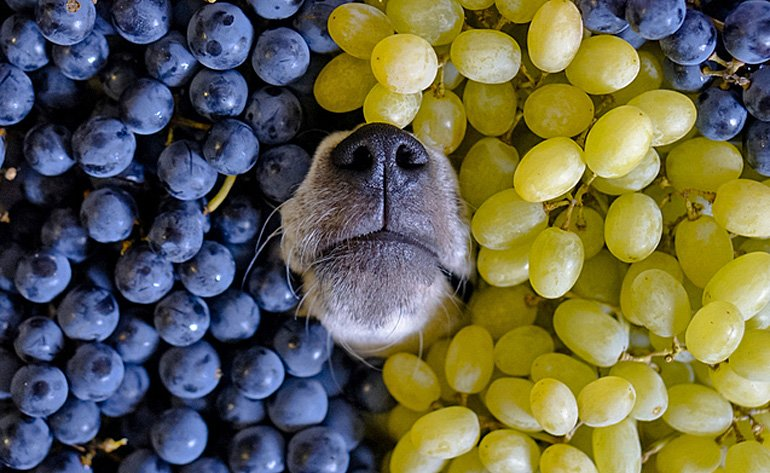Black grapes: (29, 19, 284, 460)
Green grapes: (495, 96, 747, 473)
